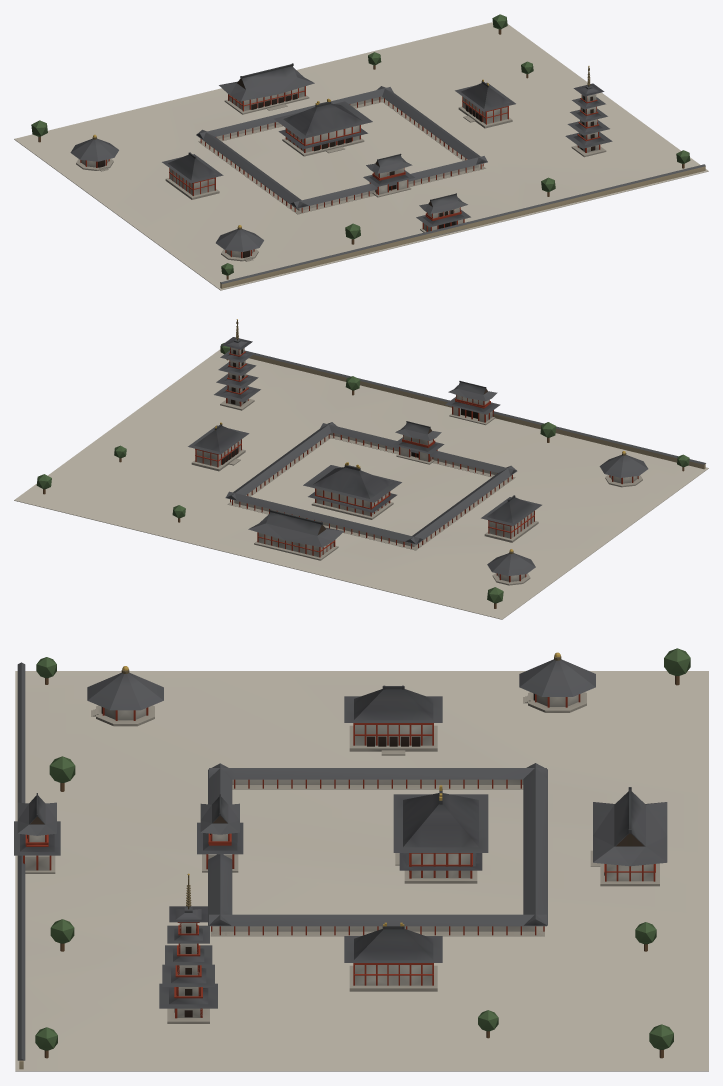
File: kofukuji-900.glb
3 renders of one model, top to bottom at view 1: azimuth 30°, elevation 25°; view 2: azimuth 150°, elevation 25°; view 3: azimuth 270°, elevation 25°, orthographic. The views are drawn at different scales.
Visible parts, largest first — view 1: p0_grounds, p1_halls, p2_pagoda; view 2: p0_grounds, p1_halls, p2_pagoda; view 3: p0_grounds, p1_halls, p2_pagoda.
Part boxes in pixels (box(x1,y1,x2,y2)): p0_grounds: box(14, 22, 708, 290); p1_halls: box(70, 86, 512, 261); p2_pagoda: box(31, 14, 690, 279); p0_grounds: box(14, 345, 708, 619); p1_halls: box(191, 394, 648, 585); p2_pagoda: box(36, 319, 689, 608); p0_grounds: box(15, 662, 708, 1071); p1_halls: box(23, 652, 659, 991); p2_pagoda: box(14, 648, 690, 1058).
Bounding box in the file's own units: 300 × 49.86 × 220.
